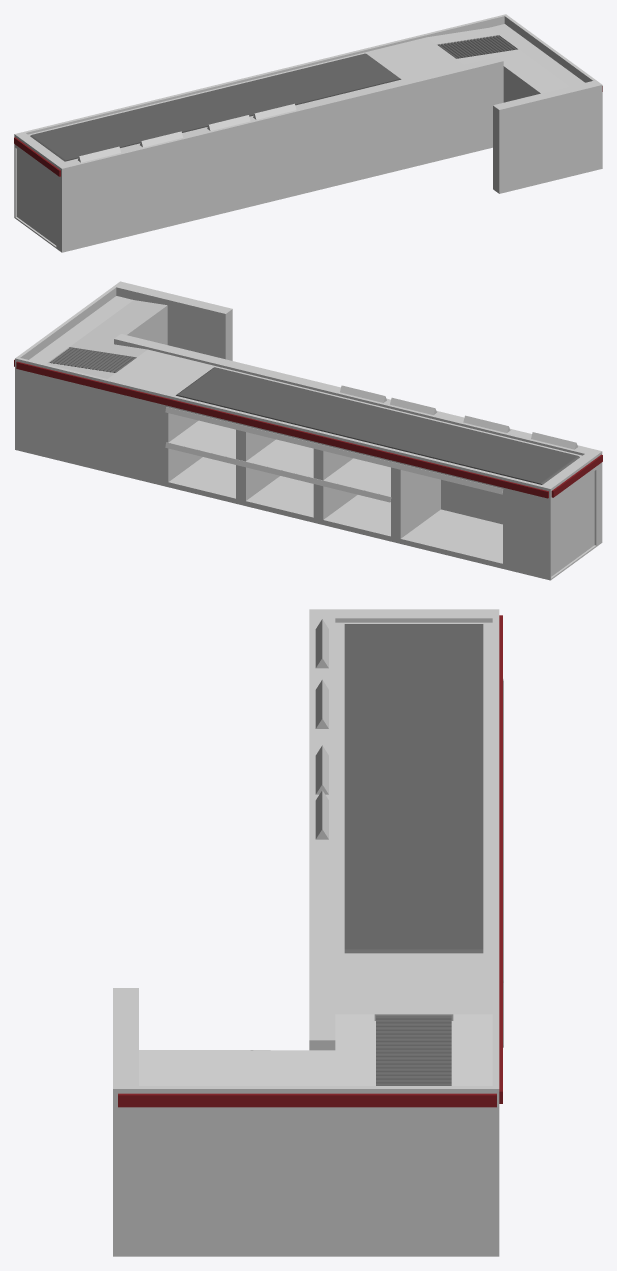
The model's file is kasse.glb.
3 views of the same model, one above another, from view 1: azimuth 30°, elevation 25°; view 2: azimuth 150°, elevation 25°; view 3: azimuth 270°, elevation 25° (orthographic). The views are drawn at different scales.
Visible parts, largest first — view 1: Cube, Band, Cylinder.004, Polster3; view 2: Cube, Band, Cube.001, Polster1, Cube.002, Cube.003, Cylinder.004, Polster3; view 3: Cube, Band, Polster2, Cylinder.004, Polster1.
Boxes of the visible parts, x1,y1,x2,y2 form: Cube: (14, 14, 602, 252); Band: (30, 53, 401, 161); Cylinder.004: (438, 35, 516, 58); Polster3: (14, 137, 60, 176); Cube: (15, 281, 602, 580); Band: (176, 367, 579, 484); Cube.001: (169, 420, 390, 501); Polster1: (16, 361, 548, 498); Cube.002: (165, 407, 503, 494); Cube.003: (165, 442, 391, 502); Cylinder.004: (50, 347, 135, 372); Polster3: (551, 454, 602, 497); Cube: (113, 609, 499, 1256); Band: (344, 624, 483, 953); Polster2: (118, 1093, 496, 1107); Cylinder.004: (376, 1015, 451, 1085); Polster1: (499, 615, 502, 1103).
Bounding box in the file's own units: 22.14 × 3.81 × 7.57.
